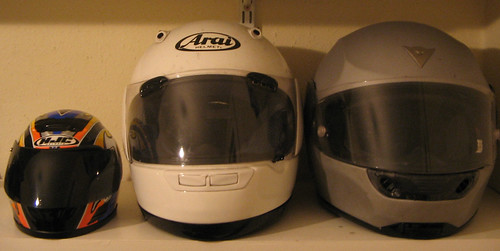helmet: (113, 17, 307, 236), (309, 13, 495, 236), (5, 103, 117, 235)
